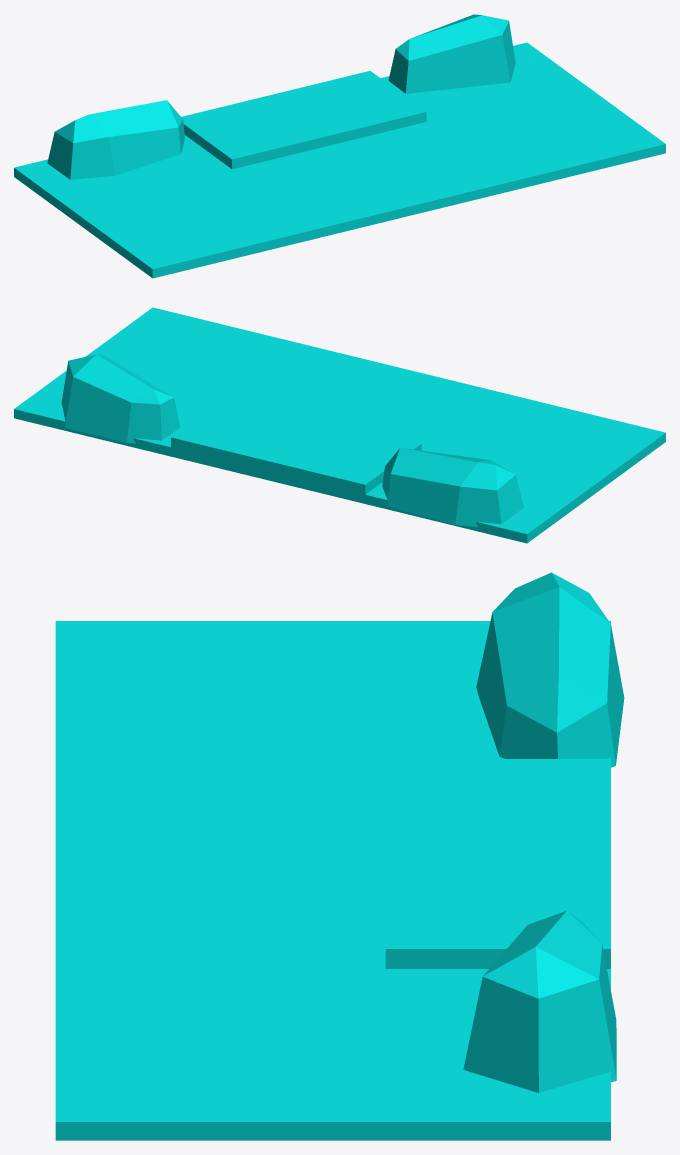
The model's file is SM_Prop_Garden_01_Collision.fbx.
3 views of the same model, one above another, from view 1: azimuth 30°, elevation 25°; view 2: azimuth 150°, elevation 25°; view 3: azimuth 270°, elevation 25° (orthographic). The views are drawn at different scales.
Parts seen in each view (by area): view 1: SM_Prop_Garden_01_Collision; view 2: SM_Prop_Garden_01_Collision; view 3: SM_Prop_Garden_01_Collision.
Boxes of the visible parts, x1,y1,x2,y2 form: SM_Prop_Garden_01_Collision: (14, 14, 665, 278); SM_Prop_Garden_01_Collision: (14, 307, 665, 543); SM_Prop_Garden_01_Collision: (55, 572, 624, 1140).
Size of the model in its own units: 464 by 56.91 by 223.
